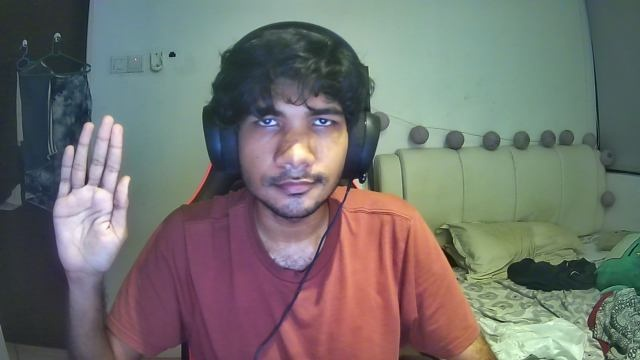Hello: (49, 115, 132, 274)
